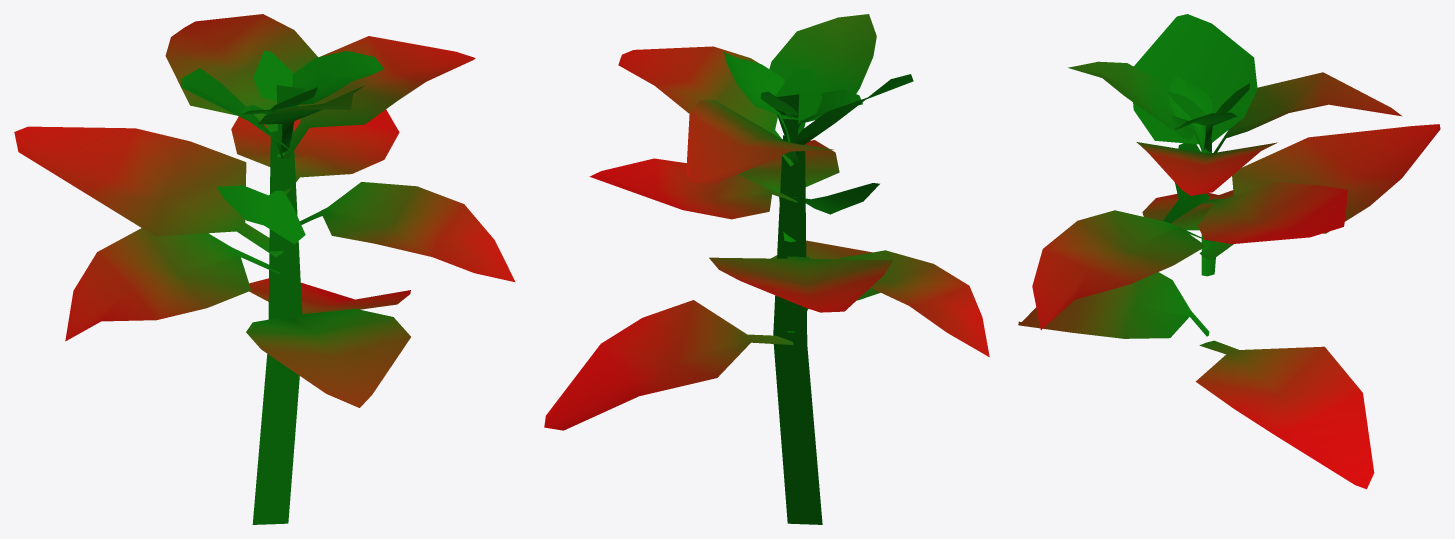
The model's file is Var2_LOD1.fbx.
3 views of the same model, side by side, from view 1: azimuth 30°, elevation 25°; view 2: azimuth 150°, elevation 25°; view 3: azimuth 270°, elevation 25° (orthographic). The views are drawn at different scales.
Parts seen in each view (by area): view 1: _13e5_Var2_LOD1; view 2: _13e5_Var2_LOD1; view 3: _13e5_Var2_LOD1.
Part boxes in pixels (x1,y1,x2,y2): _13e5_Var2_LOD1: (14, 14, 515, 524); _13e5_Var2_LOD1: (544, 14, 989, 524); _13e5_Var2_LOD1: (1018, 14, 1440, 489).
Bounding box in the file's own units: 19.14 × 22.07 × 18.48.
